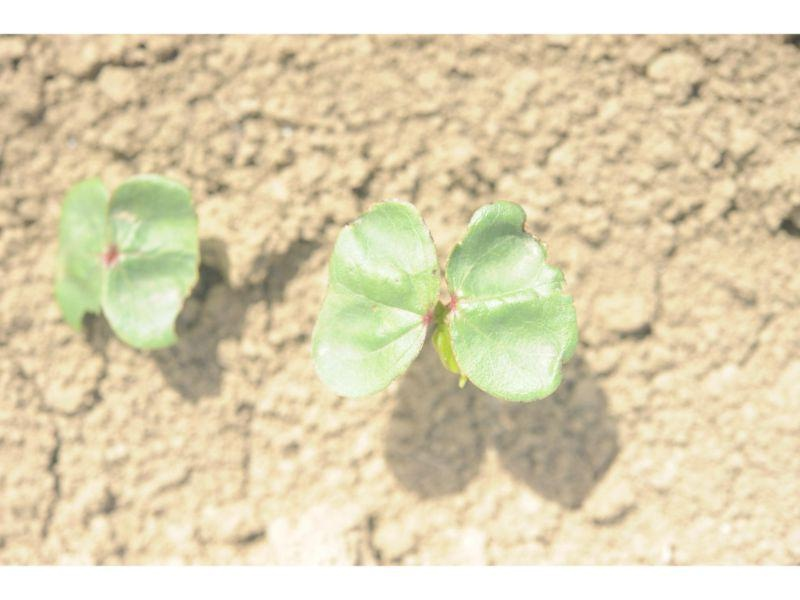cotton: (313, 197, 580, 399), (55, 173, 201, 351)
